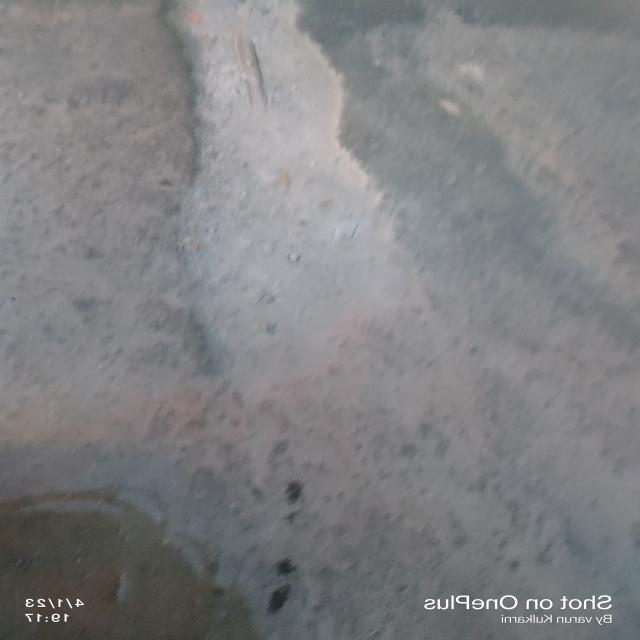potholes: (137, 0, 417, 384)
